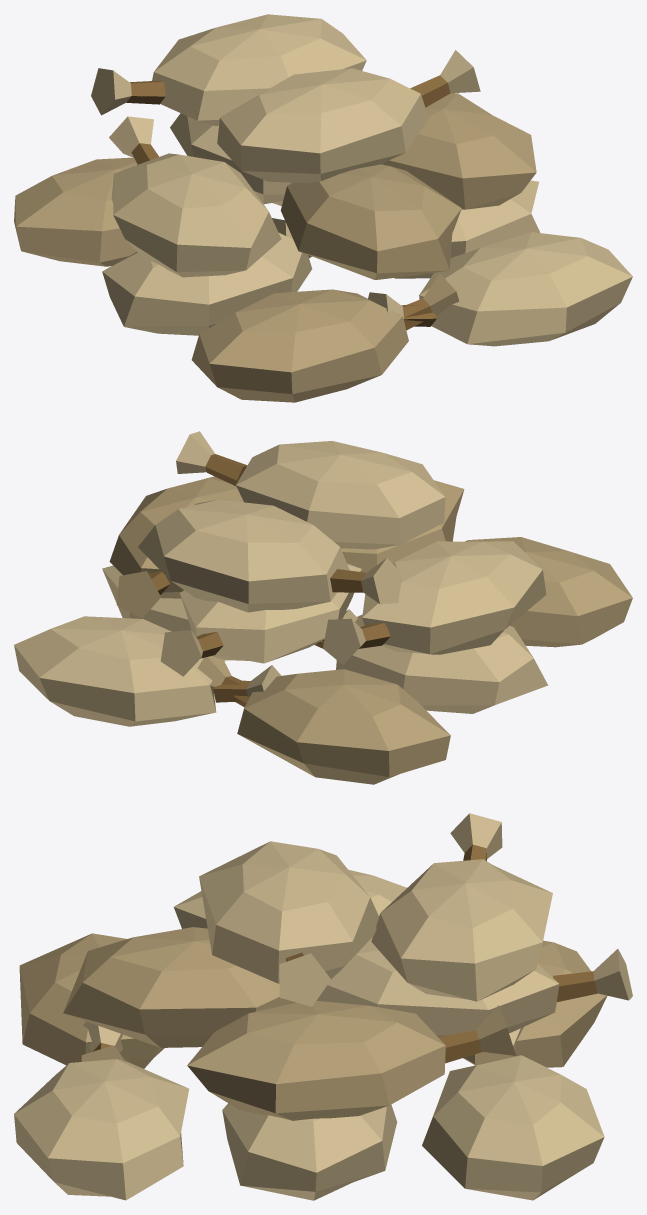
Rendered from pile_sacks_3.glb.
3 renders of one model, top to bottom at view 1: azimuth 30°, elevation 25°; view 2: azimuth 150°, elevation 25°; view 3: azimuth 270°, elevation 25°, orthographic. The views are drawn at different scales.
Visible parts, largest first — view 1: pile_sacks_3; view 2: pile_sacks_3; view 3: pile_sacks_3.
Part boxes in pixels (x1,y1,x2,y2): pile_sacks_3: (14,14,632,402); pile_sacks_3: (14,431,632,784); pile_sacks_3: (14,813,632,1200).
Size of the model in its own units: 1.38 by 0.651 by 1.51.
